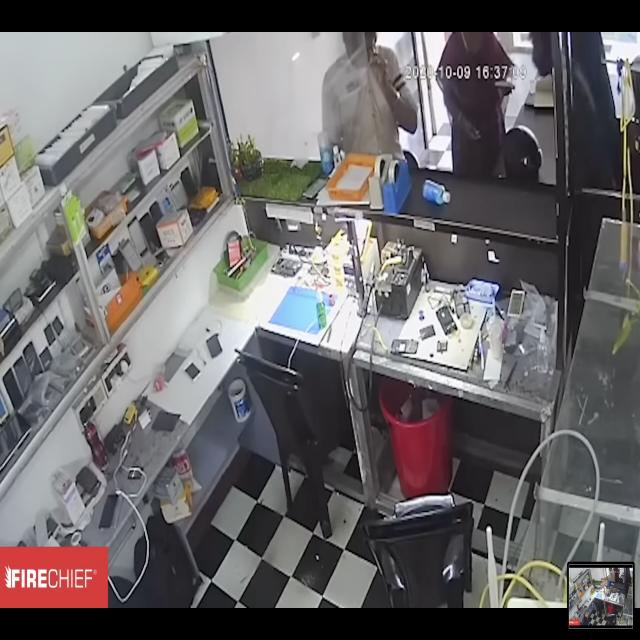Monitorando: (8, 37, 633, 601)
